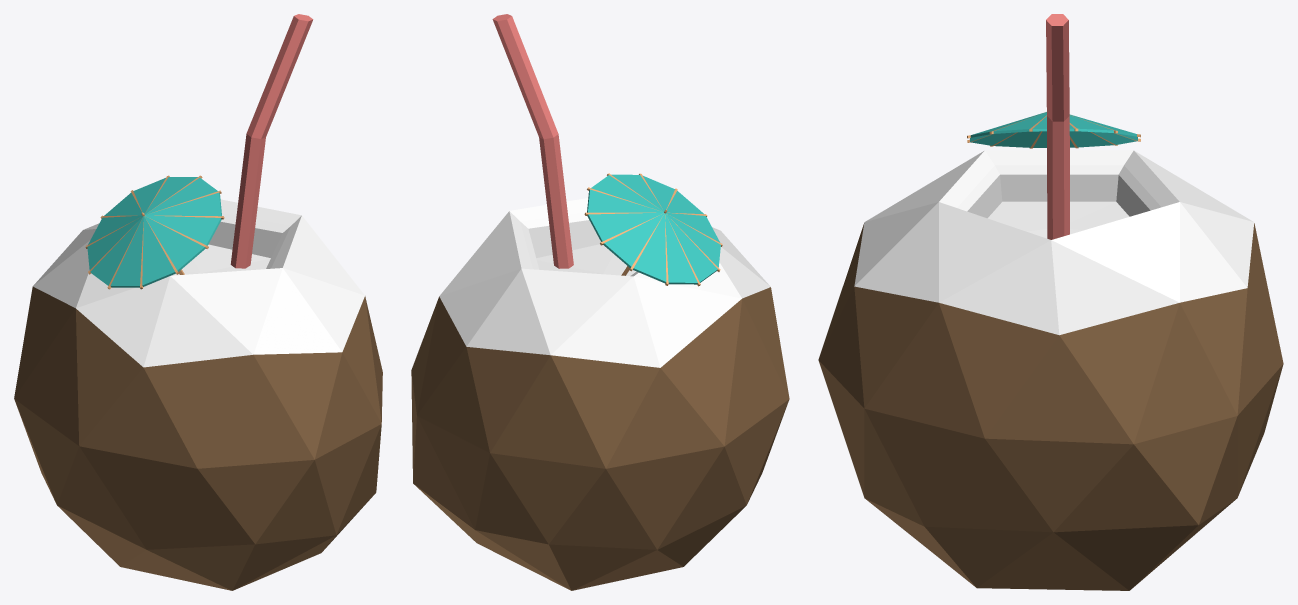
File: Coconut_02.fbx
3 views of the same model, side by side, from view 1: azimuth 30°, elevation 25°; view 2: azimuth 150°, elevation 25°; view 3: azimuth 270°, elevation 25° (orthographic). The views are drawn at different scales.
Parts seen in each view (by area): view 1: Coconut_02; view 2: Coconut_02; view 3: Coconut_02.
Part boxes in pixels (left/top/right/bottom): Coconut_02: left=14, top=14, right=382, bottom=590; Coconut_02: left=411, top=14, right=789, bottom=590; Coconut_02: left=818, top=14, right=1283, bottom=590.
Size of the model in its own units: 13.85 by 21.47 by 15.54.
